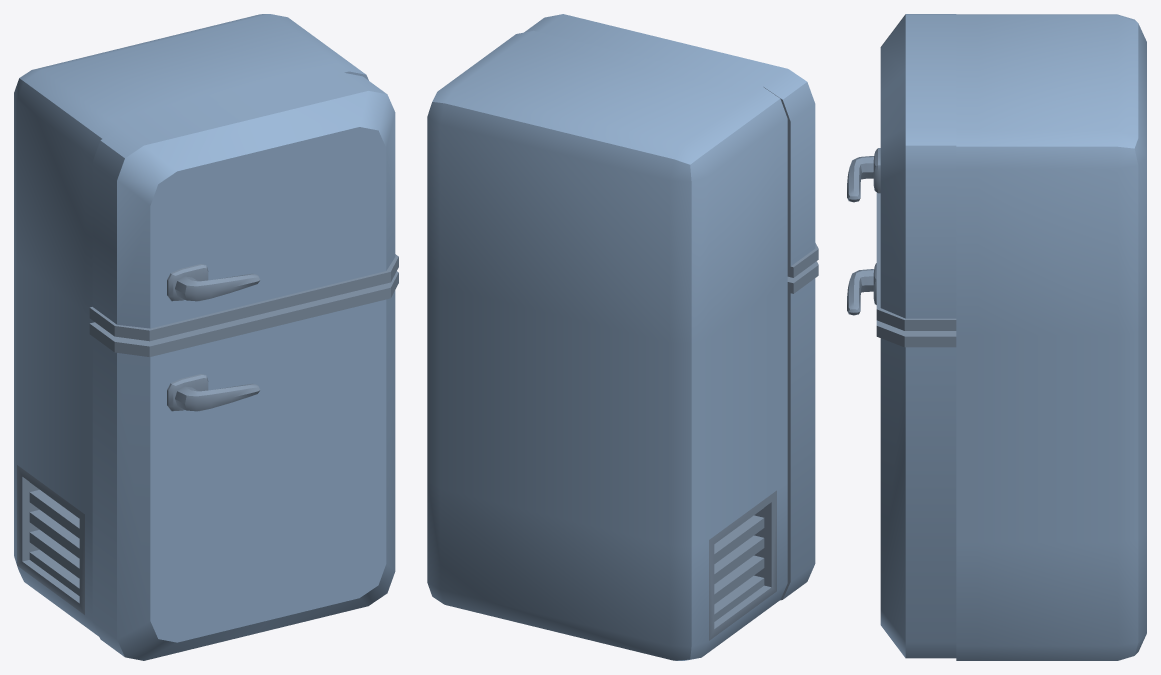
The model's file is Fridge.glb.
The picture shows the model from 3 angles, left to right: view 1: azimuth 30°, elevation 25°; view 2: azimuth 150°, elevation 25°; view 3: azimuth 270°, elevation 25°; orthographic projection. The views are drawn at different scales.
Parts seen in each view (by area): view 1: Environment_Fridge_Door, Environment_Fridge.002; view 2: Environment_Fridge.002, Environment_Fridge_Door; view 3: Environment_Fridge.002, Environment_Fridge_Door.
Part boxes in pixels (x1=…): Environment_Fridge_Door: x1=89, y1=73, x2=398, y2=660; Environment_Fridge.002: x1=14, y1=14, x2=368, y2=636; Environment_Fridge.002: x1=427, y1=30, x2=787, y2=660; Environment_Fridge_Door: x1=524, y1=14, x2=818, y2=600; Environment_Fridge.002: x1=956, y1=14, x2=1146, y2=660; Environment_Fridge_Door: x1=847, y1=14, x2=956, y2=658.
Bounding box in the file's own units: 2.41 × 4.18 × 2.14.
1 material, 1 textured.
